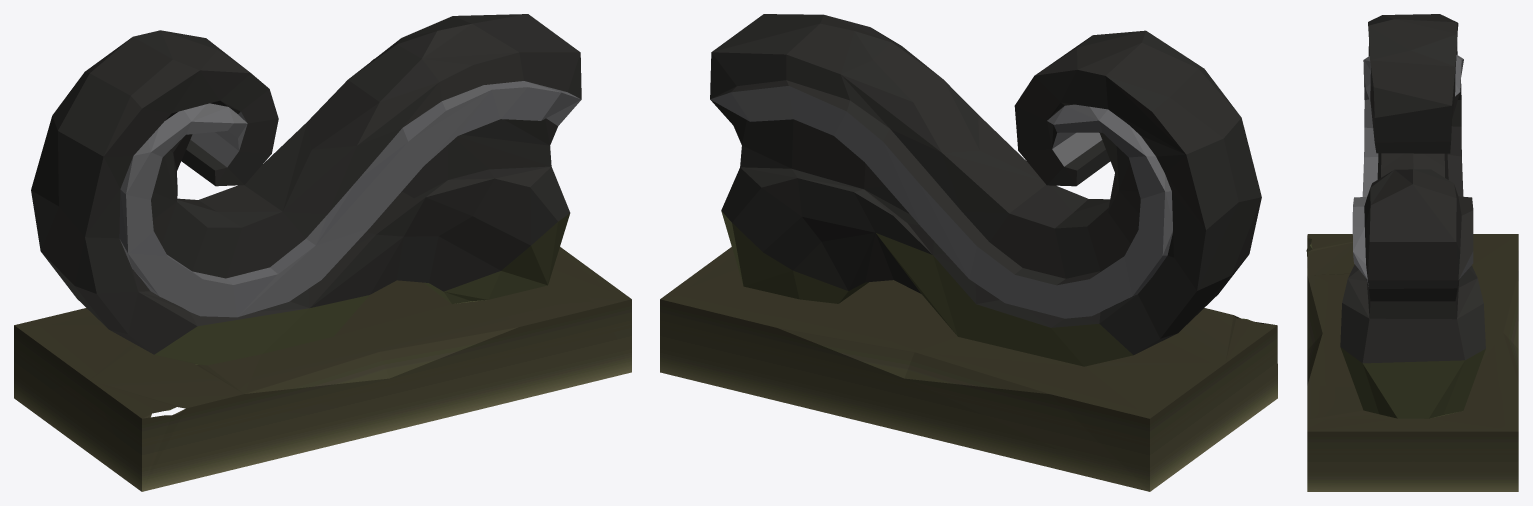
Rendered from EA_Grave_Monu_01a.fbx.
3 renders of one model, left to right at view 1: azimuth 30°, elevation 25°; view 2: azimuth 150°, elevation 25°; view 3: azimuth 270°, elevation 25°, orthographic. The views are drawn at different scales.
Parts seen in each view (by area): view 1: EA_Grave_Monu_01a_LOD0; view 2: EA_Grave_Monu_01a_LOD0; view 3: EA_Grave_Monu_01a_LOD0.
Boxes of the visible parts, x1=… form: EA_Grave_Monu_01a_LOD0: x1=14, y1=14, x2=631, y2=491; EA_Grave_Monu_01a_LOD0: x1=660, y1=14, x2=1277, y2=491; EA_Grave_Monu_01a_LOD0: x1=1306, y1=14, x2=1518, y2=491.
Size of what is drawn, in the model's own units: 3.63 by 2.53 by 1.58.
